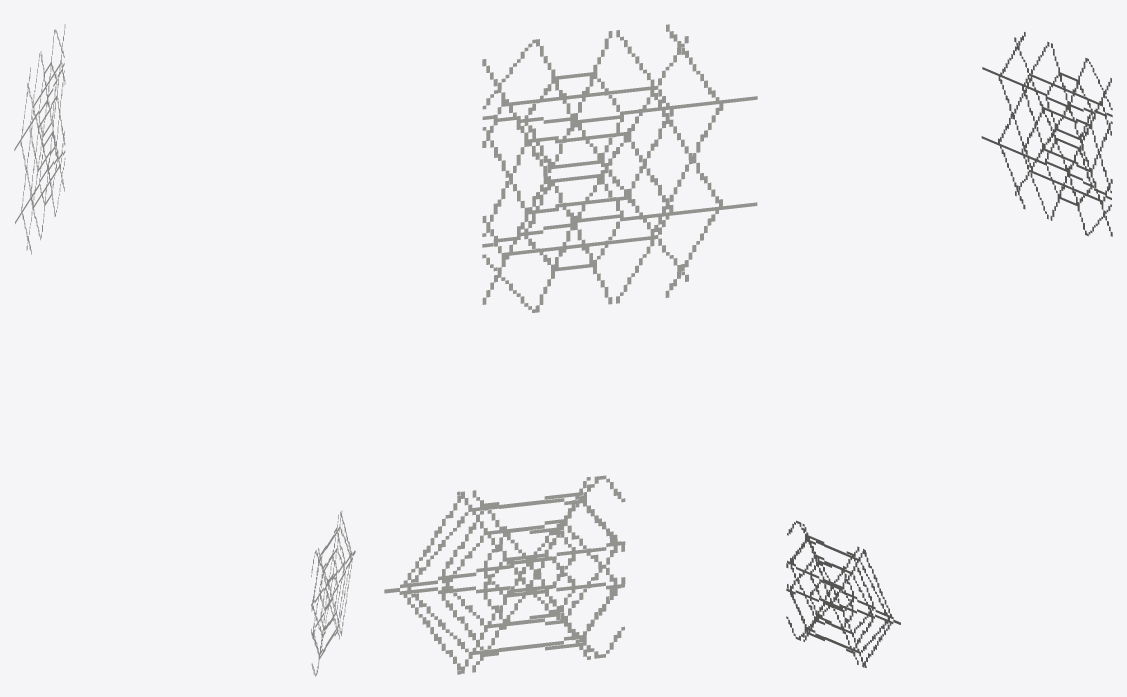
The model's file is fd_web_nostick.glb.
3 views of the same model, side by side, from view 1: azimuth 30°, elevation 25°; view 2: azimuth 150°, elevation 25°; view 3: azimuth 270°, elevation 25° (orthographic). The views are drawn at different scales.
Visible parts, largest first — view 1: block_cobweb, block_cobweb low; view 2: block_cobweb, block_cobweb low; view 3: block_cobweb, block_cobweb low.
Boxes of the visible parts, bbox=[...] form: block_cobweb: bbox=[14, 24, 65, 254]; block_cobweb low: bbox=[311, 510, 355, 676]; block_cobweb: bbox=[482, 24, 757, 312]; block_cobweb low: bbox=[384, 475, 625, 674]; block_cobweb: bbox=[981, 32, 1112, 236]; block_cobweb low: bbox=[786, 520, 900, 667].
Size of the model in its own units: 1 by 1.8 by 1.
Materials: 1 (1 with a texture image).
